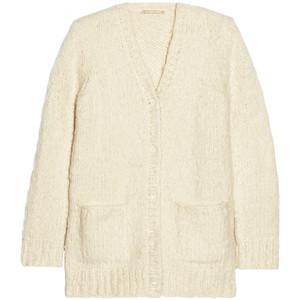S_cardigan sweater: (35, 3, 286, 296)
